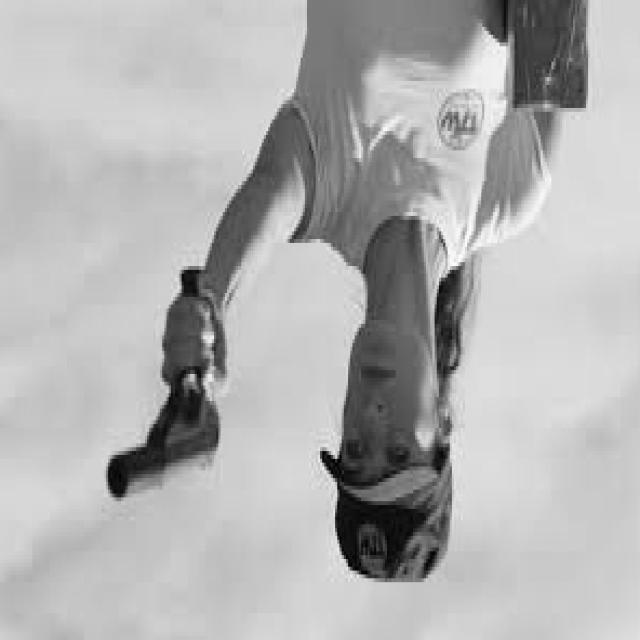gun: (99, 262, 240, 522)
